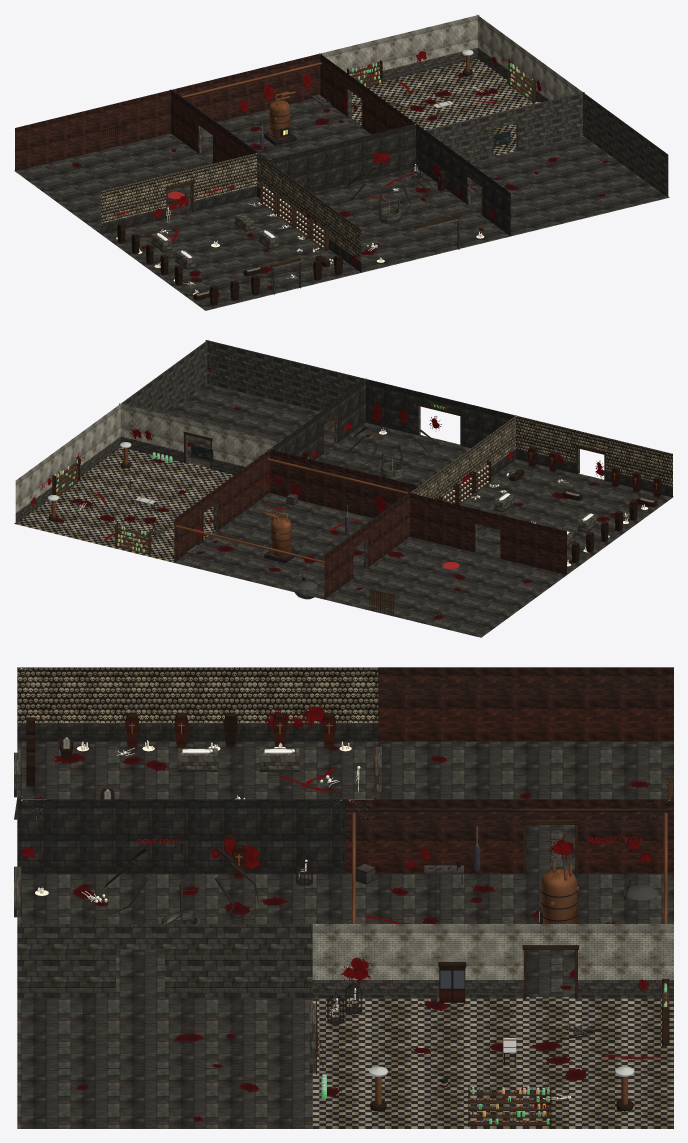
Rendered from house_basement_v13.glb.
3 renders of one model, top to bottom at view 1: azimuth 30°, elevation 25°; view 2: azimuth 150°, elevation 25°; view 3: azimuth 270°, elevation 25°, orthographic. The views are drawn at different scales.
Parts seen in each view (by area): view 1: house_basement; view 2: house_basement; view 3: house_basement.
Boxes of the visible parts, box(x1,y1,x2,y2) form: house_basement: box(14, 14, 669, 310); house_basement: box(14, 340, 673, 637); house_basement: box(14, 667, 673, 1128).
Size of the model in its own units: 56.6 by 6.32 by 40.2.
Materials: 60 (46 with a texture image).
